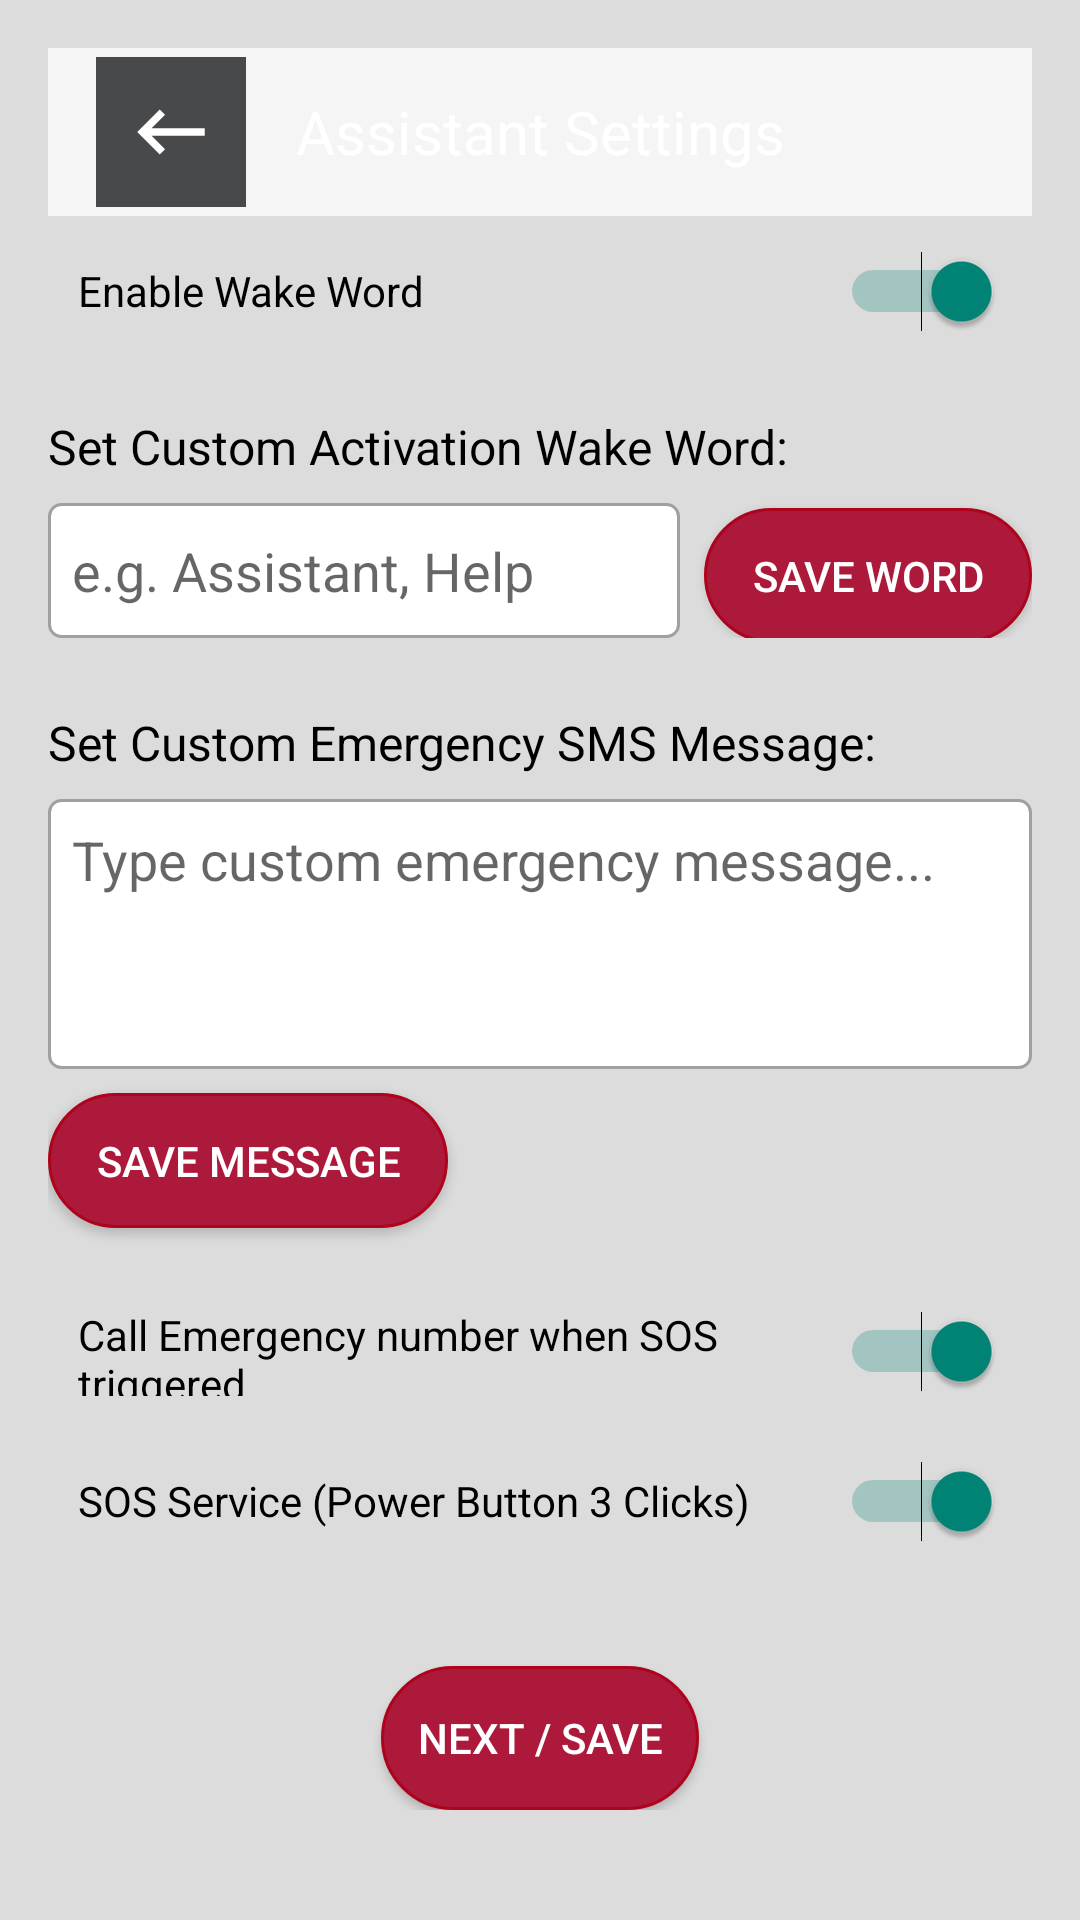

Where icons sit on this 1080*1920 app screen, as BBox(x1, y1, x2, y2):
Back: BBox(96, 57, 246, 207)
